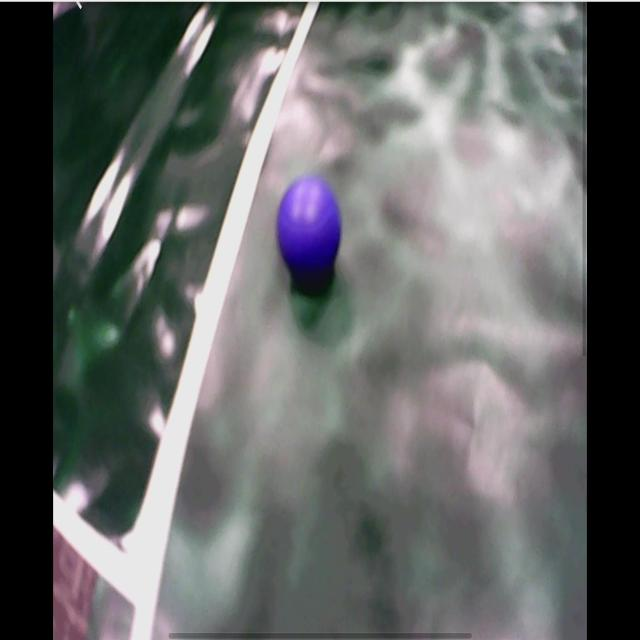ball: (279, 179, 343, 281)
